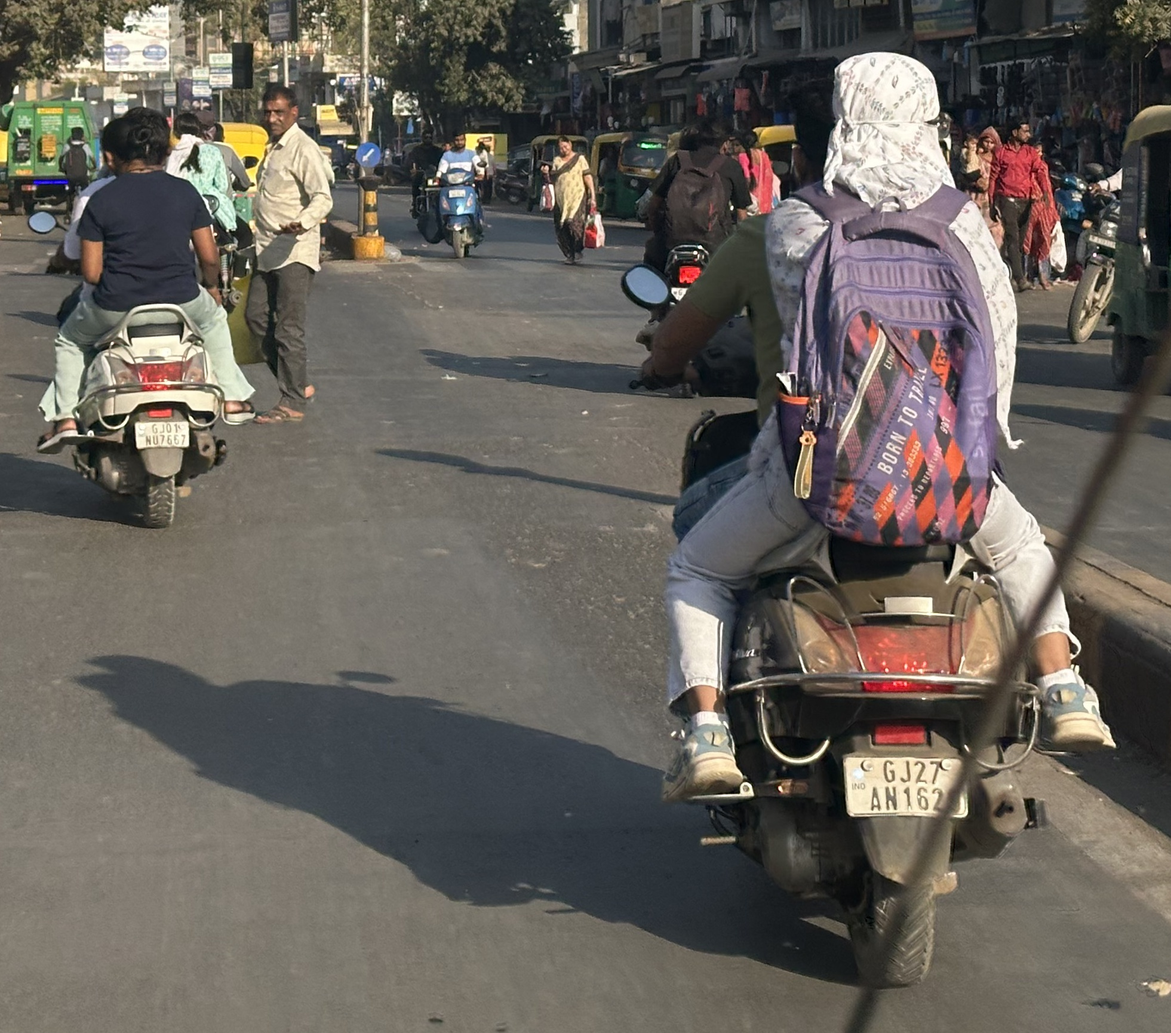BikeWithRider: (613, 42, 1126, 1003), (19, 97, 266, 536), (617, 113, 766, 401), (428, 125, 497, 263), (402, 127, 454, 248)
NoHelmet: (813, 44, 959, 212), (106, 103, 176, 180)
